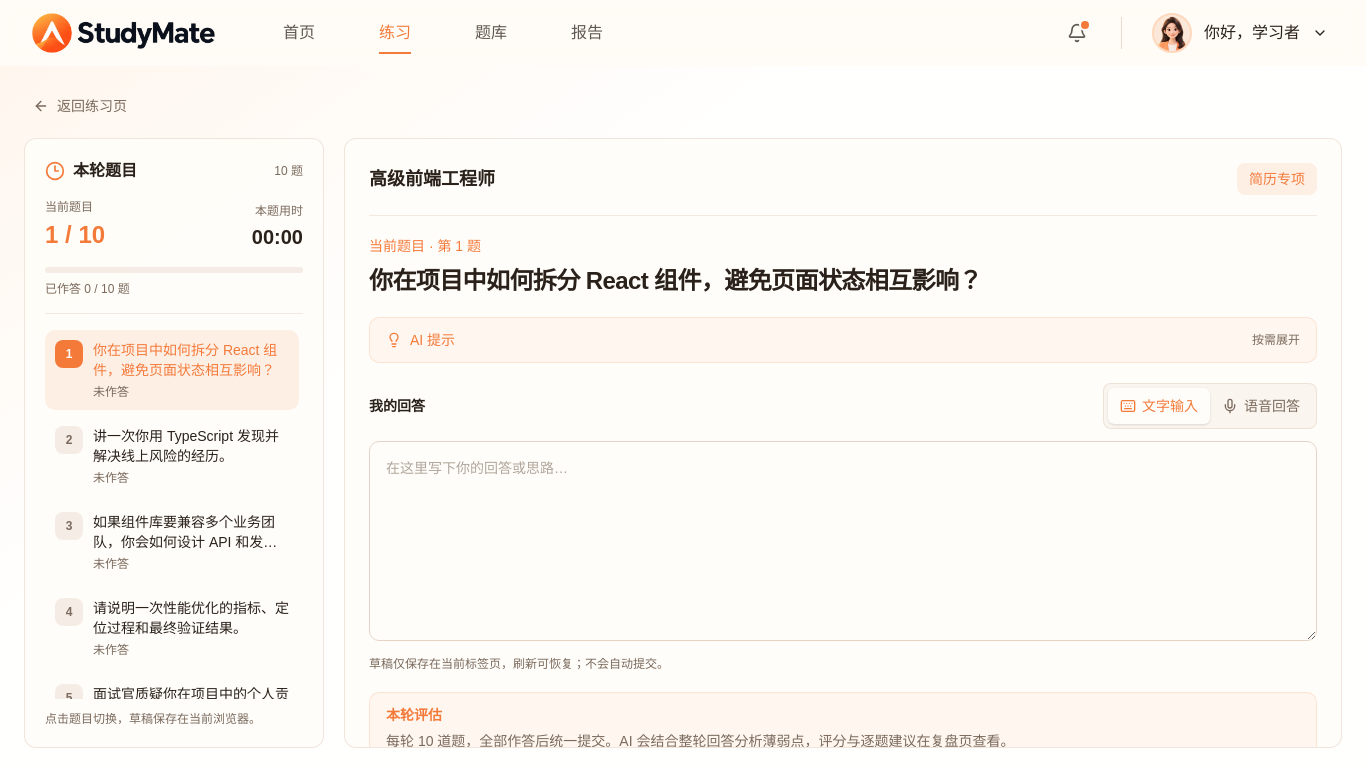
Test: StudyMate home page › does not treat the voice placeholder as a submitted answer
Expected: the navigation bar named "本轮题目目录" is shown, [45, 313, 303, 699]
What coordinates should you click on to do the following:
click the button "语音回答"
I would click on:
 (1261, 406)
Its box is [1210, 388, 1312, 424].
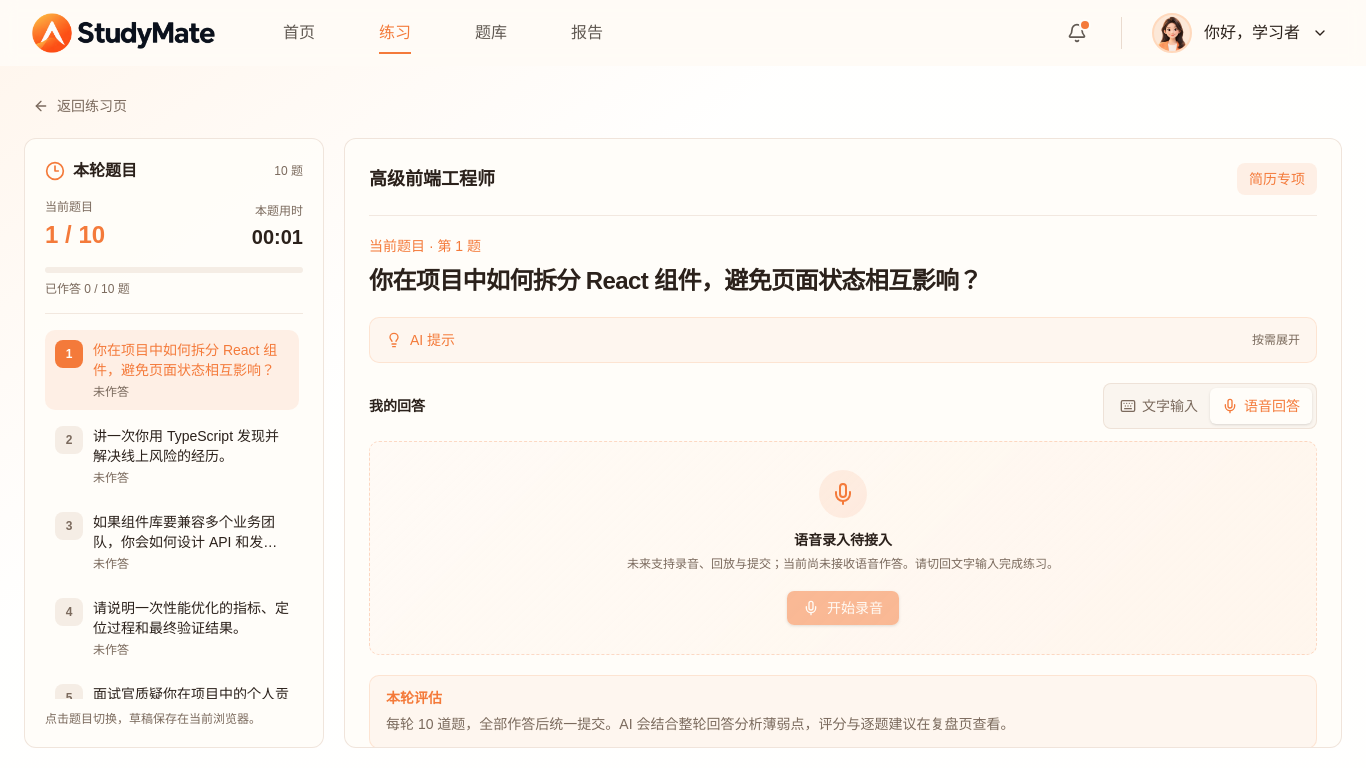
Result: the text "未来支持录音、回放与提交；当前尚未接收语音作答。请切回文字输入完成练习。" is shown at [627, 554, 1059, 574]
